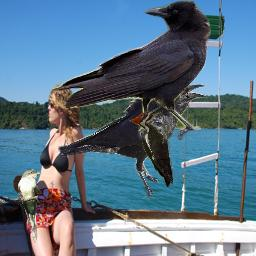Crow: (49, 0, 212, 140), (58, 83, 207, 199)
Cuckoo: (18, 169, 42, 243)
Woodpecker: (129, 106, 173, 187)
